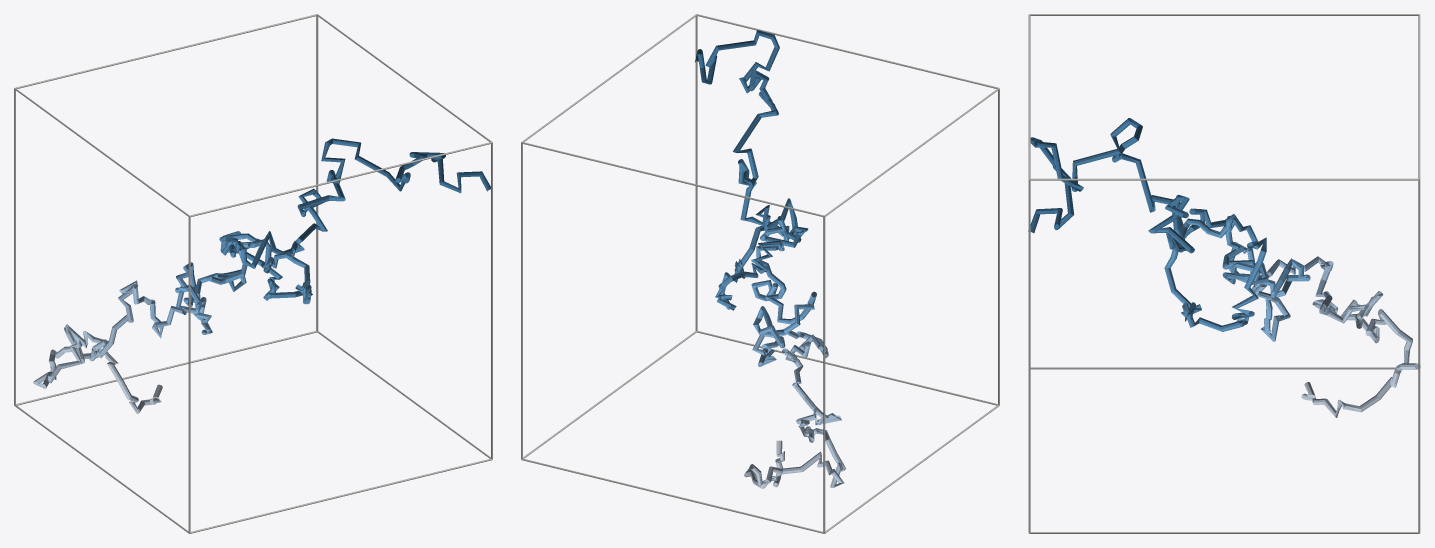
3 renders of one model, left to right at view 1: azimuth 30°, elevation 25°; view 2: azimuth 150°, elevation 25°; view 3: azimuth 270°, elevation 25°, orthographic. The views are drawn at different scales.
Visible parts, largest first — view 1: geometry_0, geometry_1; view 2: geometry_0, geometry_1; view 3: geometry_0, geometry_1.
Boxes of the visible parts, box(x1,y1,x2,y2) form: geometry_0: box(33, 138, 490, 413); geometry_1: box(14, 14, 492, 533); geometry_0: box(695, 30, 845, 488); geometry_1: box(521, 14, 999, 533); geometry_0: box(1028, 118, 1420, 417); geometry_1: box(1028, 14, 1420, 533).
Bounding box in the file's own units: 0.3016 × 0.3049 × 0.3023.
